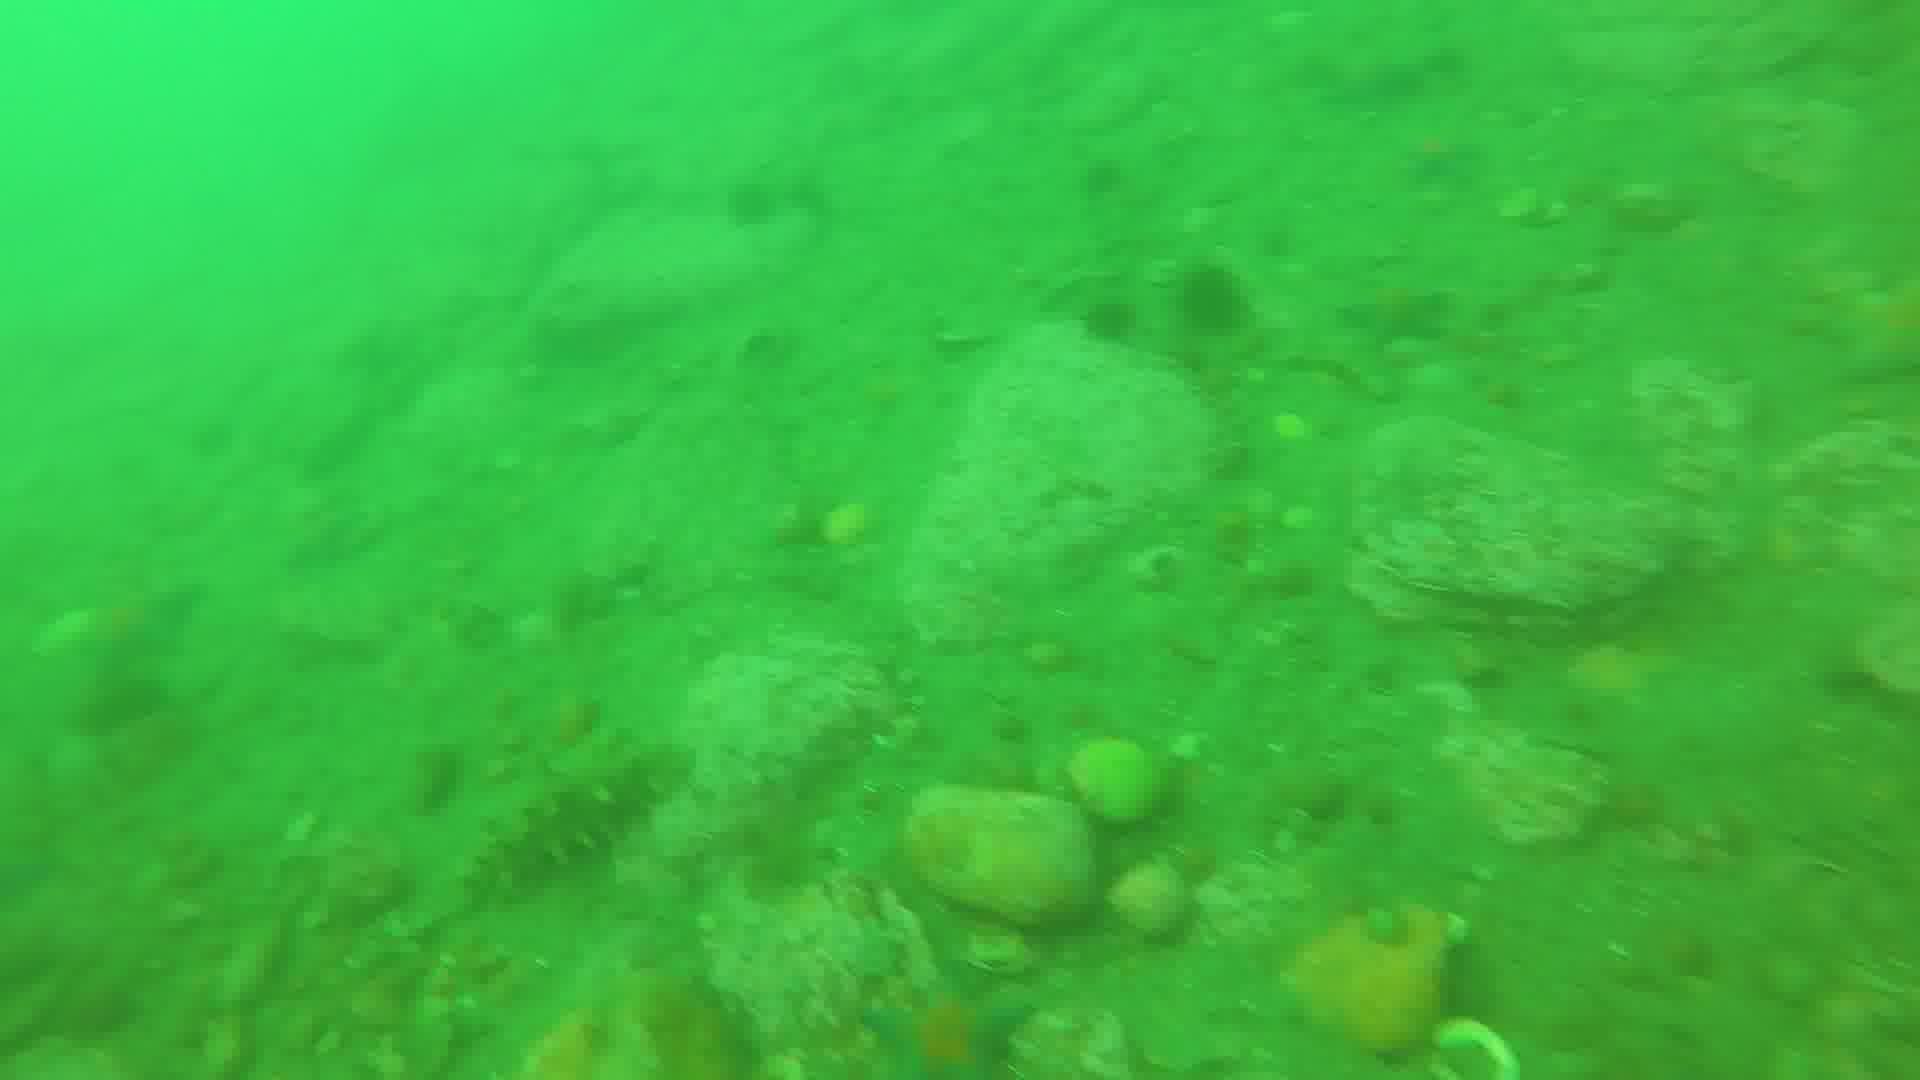echinus: (1182, 262, 1253, 332)
holothurian: (462, 740, 687, 909)
scallop: (1425, 1011, 1526, 1080)
starfish: (872, 973, 1040, 1080), (1395, 124, 1487, 189)
